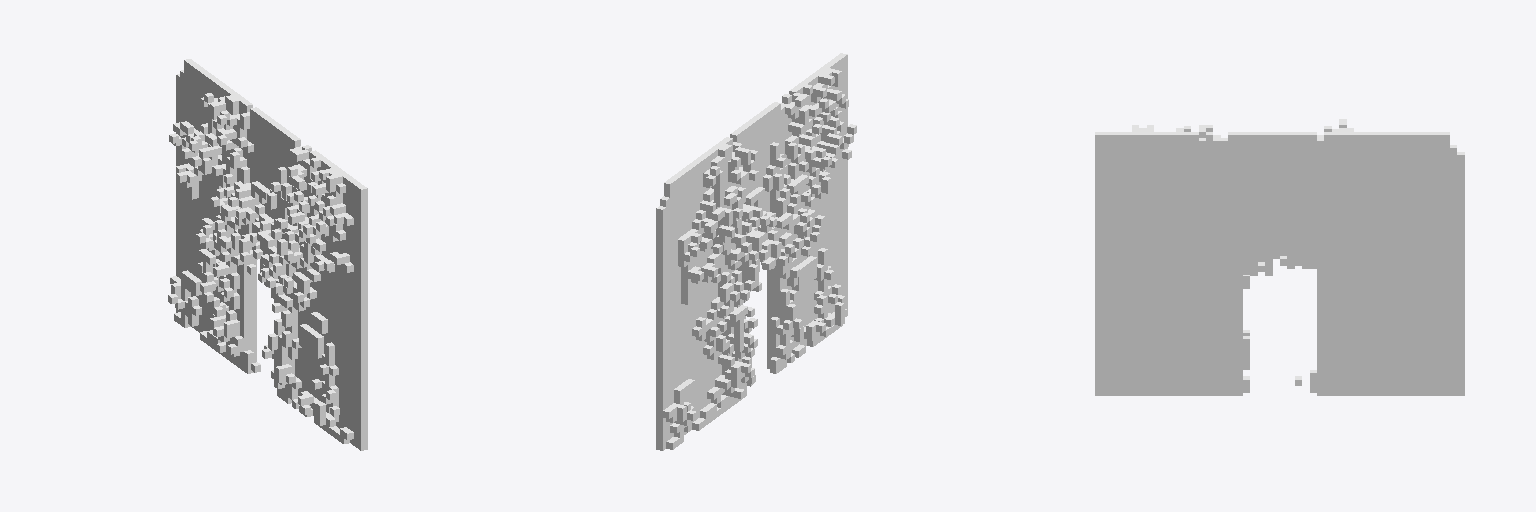
The model's file is Desert-6-Wall_GardenDoor_01.obj.
3 views of the same model, side by side, from view 1: azimuth 30°, elevation 25°; view 2: azimuth 150°, elevation 25°; view 3: azimuth 270°, elevation 25° (orthographic).
Parts seen in each view (by area): view 1: Wall_GardenDoor_01; view 2: Wall_GardenDoor_01; view 3: Wall_GardenDoor_01.
Boxes of the visible parts, x1,y1,x2,y2 form: Wall_GardenDoor_01: [168, 59, 367, 450]; Wall_GardenDoor_01: [656, 53, 856, 450]; Wall_GardenDoor_01: [1095, 119, 1464, 395].
Size of the model in its own units: 0.6 by 3.9 by 5.